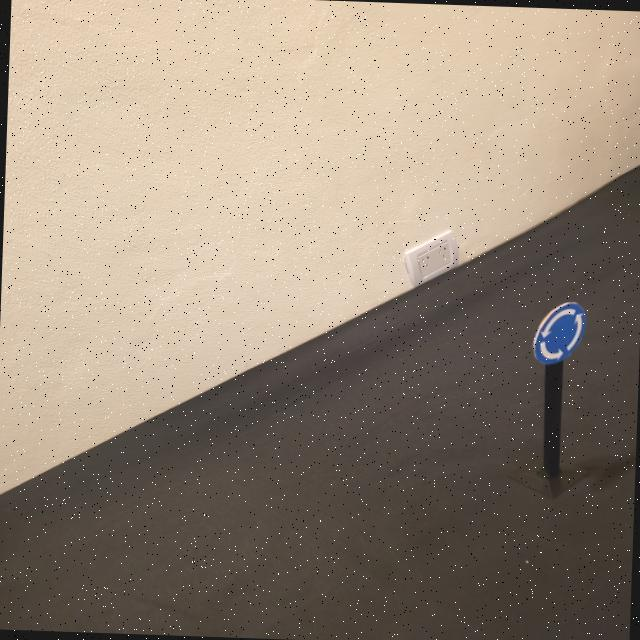round_about: (531, 300, 586, 366)
